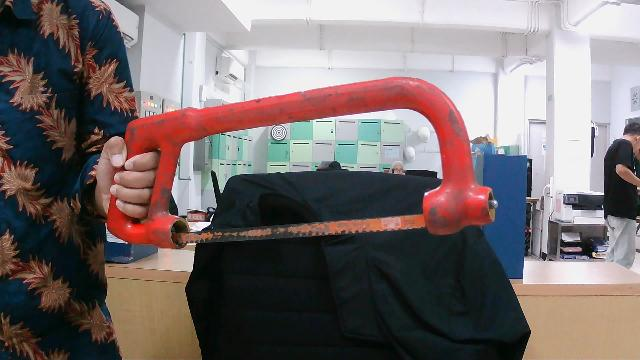gergaji_besi: (105, 77, 503, 249)
